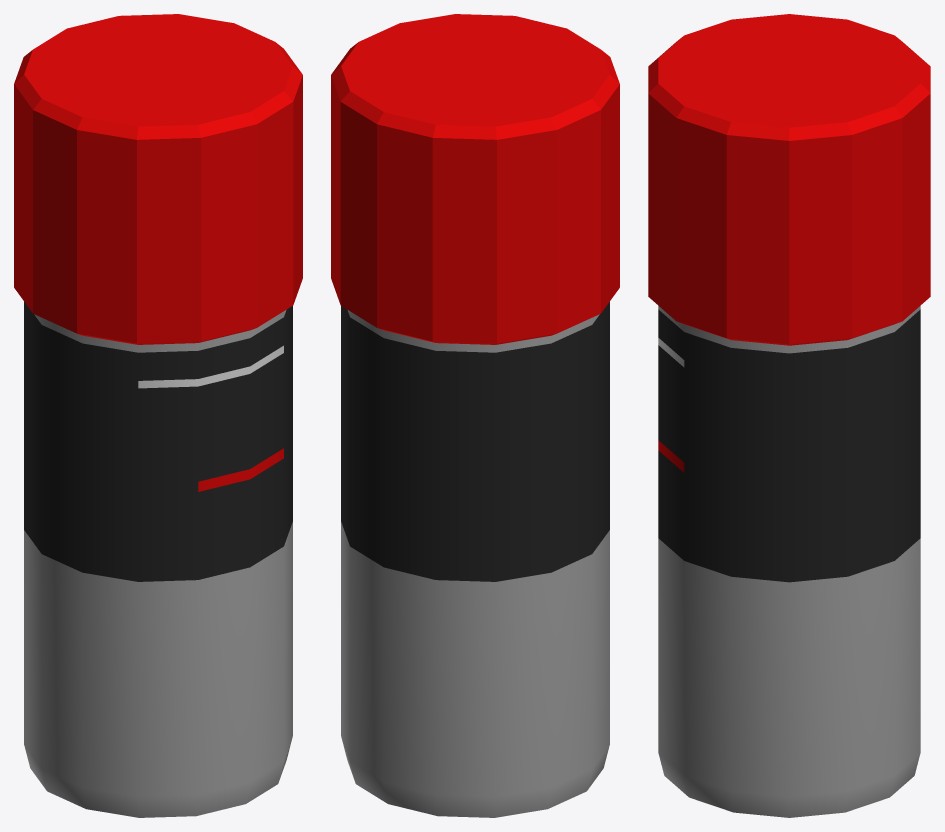
File: SprayPaint_Red.fbx
3 renders of one model, left to right at view 1: azimuth 30°, elevation 25°; view 2: azimuth 150°, elevation 25°; view 3: azimuth 270°, elevation 25°, orthographic.
Parts seen in each view (by area): view 1: pCylinder8; view 2: pCylinder8; view 3: pCylinder8.
Part boxes in pixels (box(x1,y1,x2,y2)): pCylinder8: box(14, 14, 302, 817); pCylinder8: box(331, 14, 619, 817); pCylinder8: box(648, 14, 930, 817).
Bounding box in the file's own units: 3.04 × 8.04 × 2.97.
